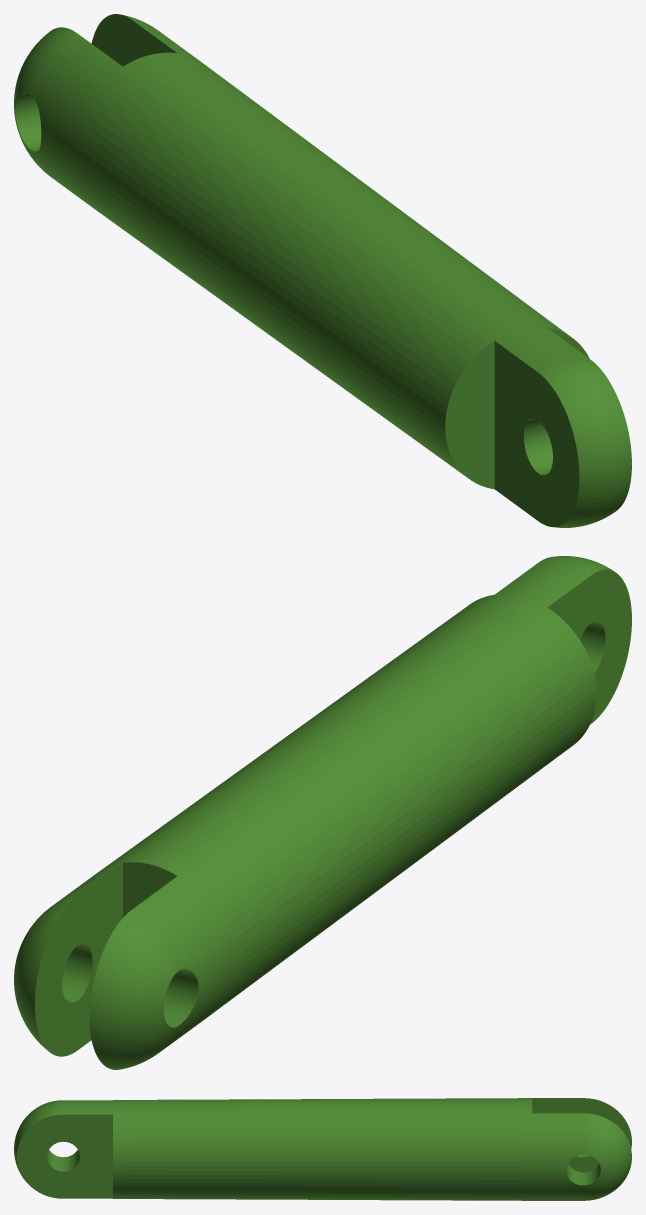
The picture shows the model from 3 angles, top to bottom: view 1: azimuth 30°, elevation 25°; view 2: azimuth 150°, elevation 25°; view 3: azimuth 270°, elevation 25°; orthographic projection. The views are drawn at different scales.
Parts seen in each view (by area): view 1: node; view 2: node; view 3: node.
Part boxes in pixels (x1,y1,x2,y2): node: (14, 14, 631, 527); node: (14, 556, 631, 1069); node: (14, 1098, 631, 1200).
Bounding box in the file's own units: 0.0735 × 0.0735 × 0.442.
